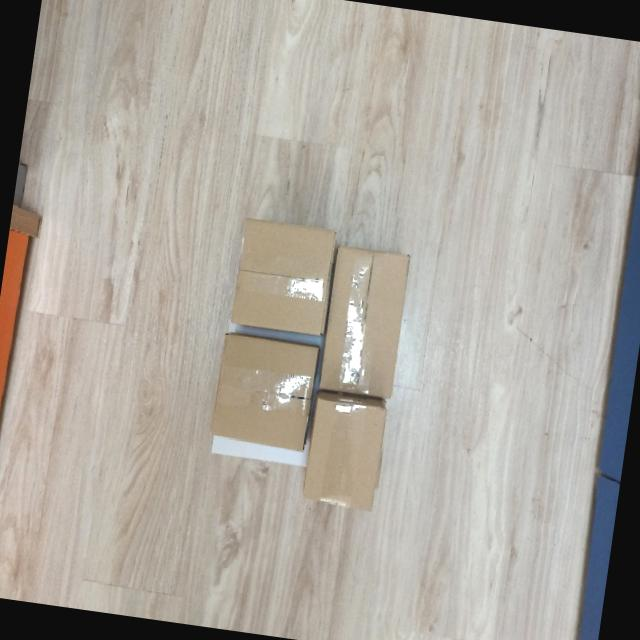box: (313, 240, 417, 404), (202, 329, 324, 456), (223, 215, 341, 342), (296, 388, 394, 518)
